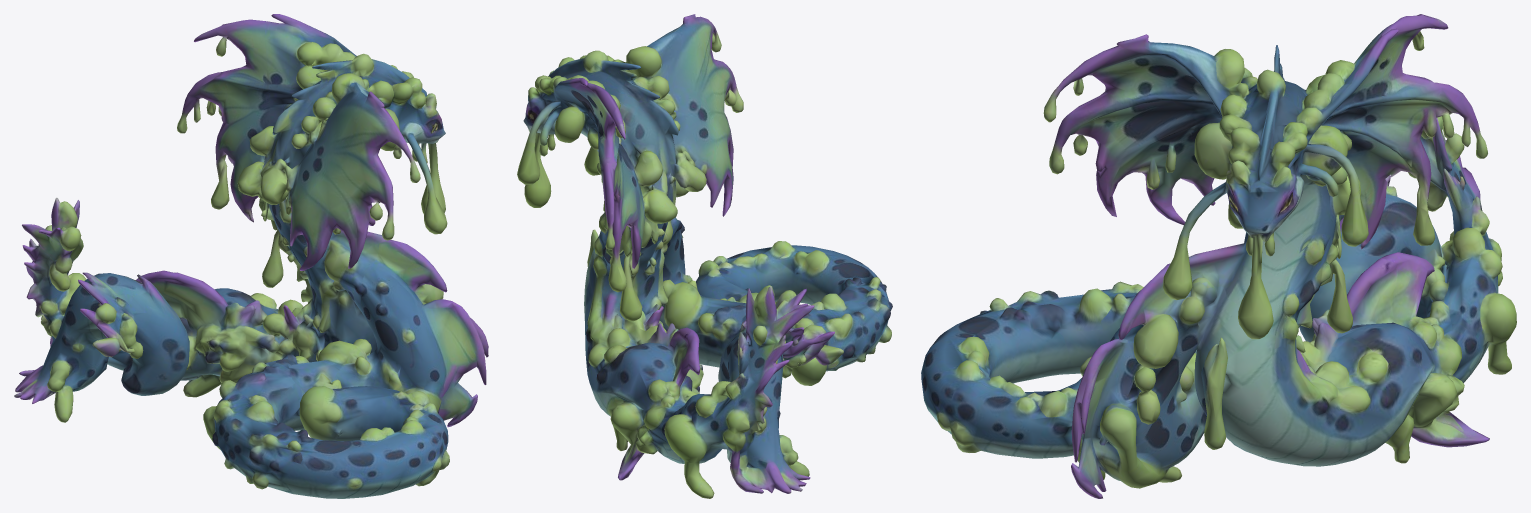
Rendered from n4_sludgeviper.45076c4b.glb.
The picture shows the model from 3 angles, left to right: view 1: azimuth 30°, elevation 25°; view 2: azimuth 150°, elevation 25°; view 3: azimuth 270°, elevation 25°; orthographic projection. The views are drawn at different scales.
Parts seen in each view (by area): view 1: tripo_node_7825ddb8-d3f0-41fd-ba50-11ff4b074aa6; view 2: tripo_node_7825ddb8-d3f0-41fd-ba50-11ff4b074aa6; view 3: tripo_node_7825ddb8-d3f0-41fd-ba50-11ff4b074aa6.
Part boxes in pixels (x1,y1,x2,y2): tripo_node_7825ddb8-d3f0-41fd-ba50-11ff4b074aa6: (14,14,488,498); tripo_node_7825ddb8-d3f0-41fd-ba50-11ff4b074aa6: (517,14,892,498); tripo_node_7825ddb8-d3f0-41fd-ba50-11ff4b074aa6: (921,14,1516,498).
Bounding box in the file's own units: 0.8757 × 0.8482 × 0.9984.
1 material, 1 textured.
